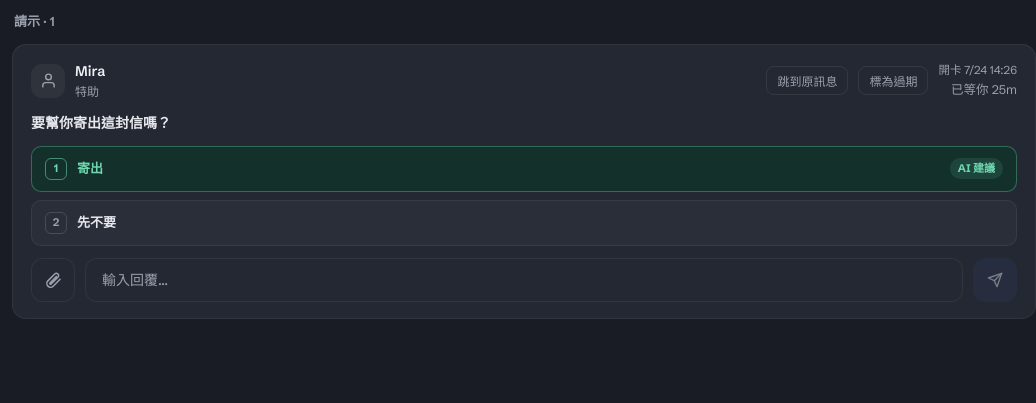
Scenario: RepliesPage › a 500 answer keeps the retryable 回覆失敗，請稍後重試 wording
What coordinates should you click on to do the following:
click the button with class "reply-option" showing "1 寄出 AI 建議"
I would click on:
 (976, 168)
Its box is [31,146,1017,192].
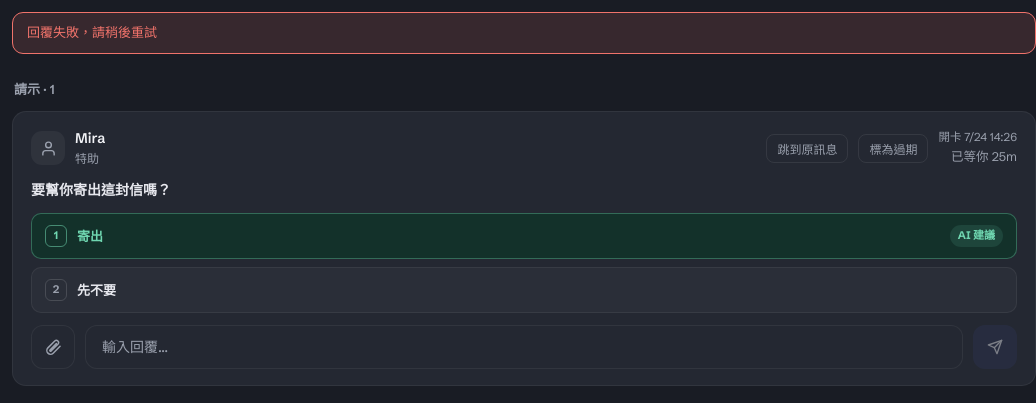
Expected: the text with test id "replies-action-error" reads "回覆失敗，請稍後重試", [27,24,157,40]
